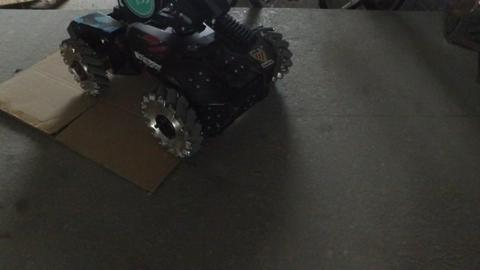chariot: (59, 7, 299, 173)
